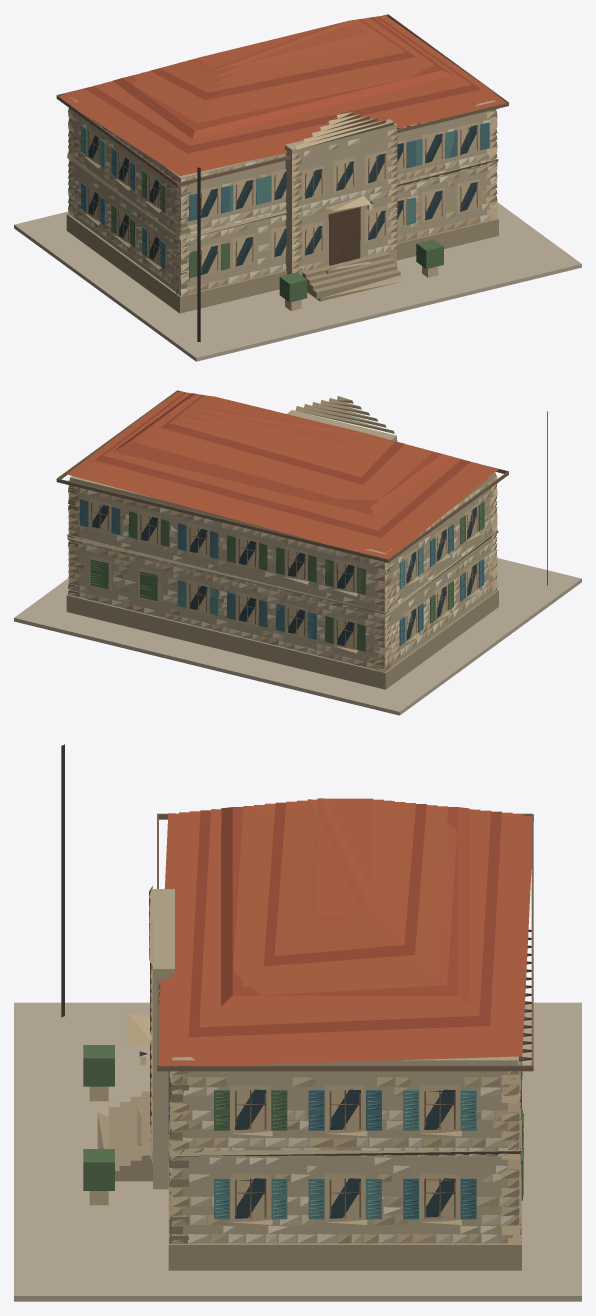
The model's file is belediye-hafif.glb.
3 views of the same model, one above another, from view 1: azimuth 30°, elevation 25°; view 2: azimuth 150°, elevation 25°; view 3: azimuth 270°, elevation 25° (orthographic). The views are drawn at different scales.
Visible parts, largest first — view 1: kiremit1, zemin, harc, tas2, tas_koyu, kiremit4, tas3, cam, kiremit2, ahsap, tas4, tas1 (+6 smaller); view 2: kiremit1, harc, zemin, tas2, tas_koyu, kiremit4, kiremit2, ahsap, tas3, tas1, yesil_kepenk, tas4 (+3 smaller); view 3: kiremit1, zemin, harc, tas_koyu, tas2, kiremit4, kiremit2, ahsap, tas4, tas1, tas3, kepenk2 (+5 smaller).
Part boxes in pixels (x1,y1,x2,y2): kiremit1: (56,15,509,175); zemin: (14,202,581,361); harc: (70,97,495,295); tas2: (68,109,497,310); tas_koyu: (66,153,498,313); kiremit4: (84,16,480,153); tas3: (68,108,497,295); cam: (88,125,477,274); kiremit2: (112,17,452,139); ahsap: (56,14,508,272); tas4: (68,112,496,292); tas1: (72,114,496,290); kiremit1: (66,391,498,560); harc: (70,410,495,669); zemin: (14,558,581,715); tas2: (68,396,497,672); tas_koyu: (66,530,498,689); kiremit4: (95,392,470,537); kiremit2: (113,393,452,515); ahsap: (56,390,508,648); tas3: (68,475,497,670); tas1: (69,473,496,663); yesil_kepenk: (90,502,484,651); tas4: (80,492,495,669); kiremit1: (156,798,533,1067); zemin: (14,1002,581,1301); harc: (153,889,518,1243); tas_koyu: (97,1005,525,1270); tas2: (89,885,521,1244); kiremit4: (188,802,501,1037); kiremit2: (221,807,469,1006); ahsap: (150,813,533,1218); tas4: (151,1038,517,1243); tas1: (151,1013,520,1243); tas3: (150,982,521,1243); kepenk2: (168,1071,522,1219).
Size of the model in its own units: 22 by 10.44 by 18.
